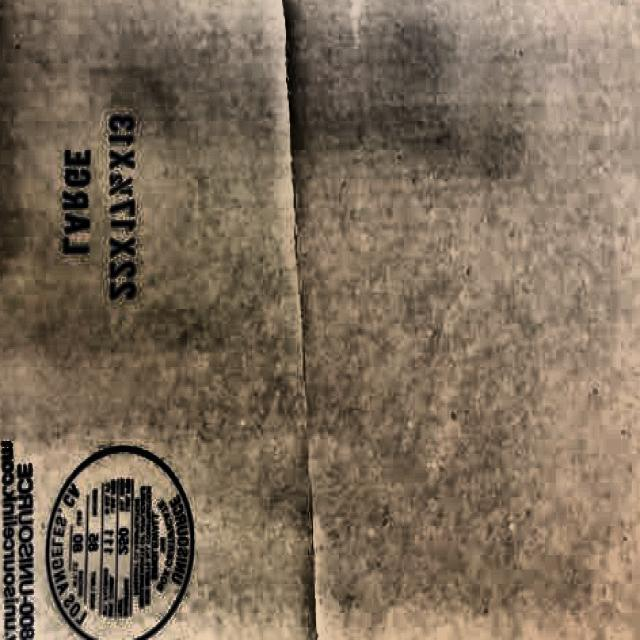cardboard: (0, 0, 322, 640)
